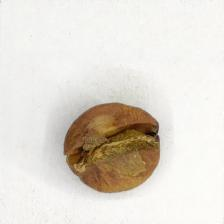NG: (72, 102, 148, 179)
